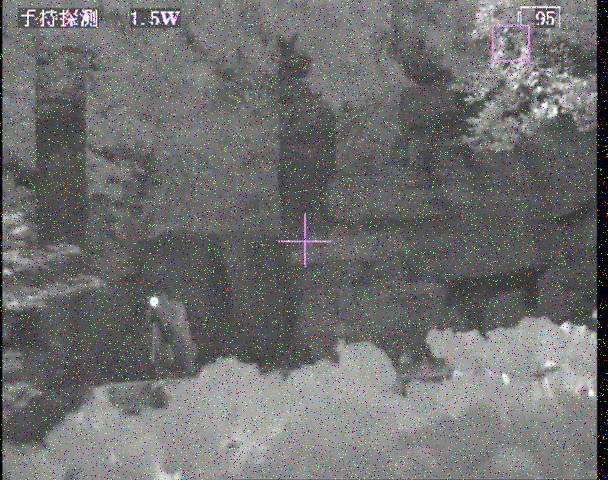my: (147, 295, 161, 310)
